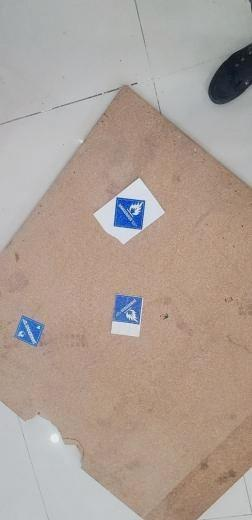dangerous-when-wet: (113, 195, 145, 230), (14, 316, 45, 348), (112, 295, 144, 325)
